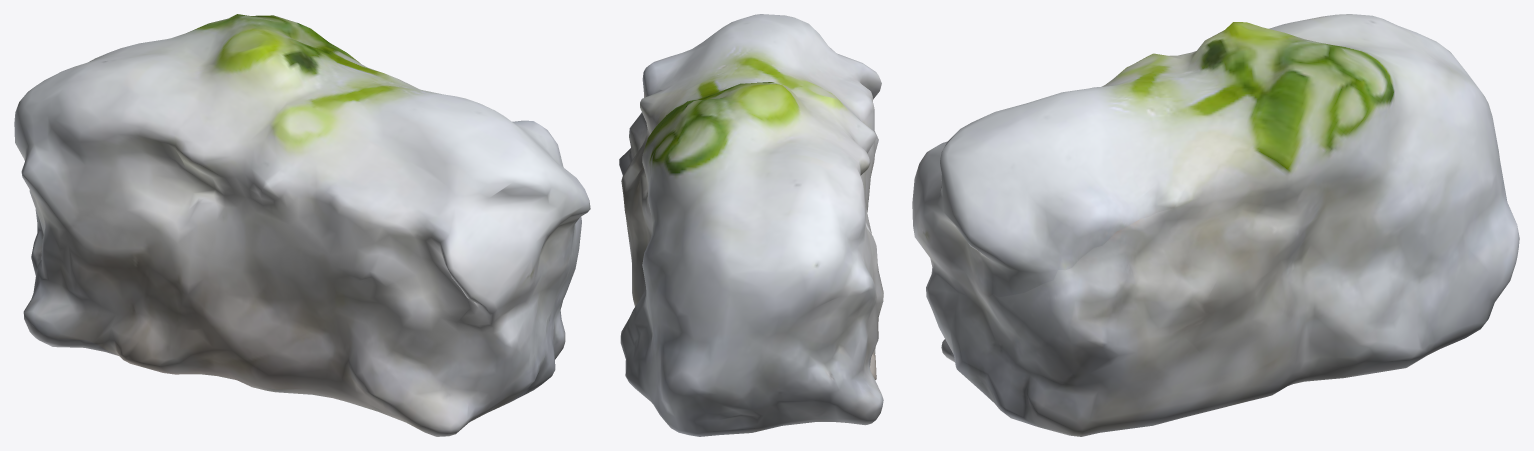
The model's file is engawa.fbx.
3 views of the same model, side by side, from view 1: azimuth 30°, elevation 25°; view 2: azimuth 150°, elevation 25°; view 3: azimuth 270°, elevation 25° (orthographic). The views are drawn at different scales.
Parts seen in each view (by area): view 1: engawa; view 2: engawa; view 3: engawa.
Boxes of the visible parts, x1,y1,x2,y2 form: engawa: (14, 14, 590, 436); engawa: (619, 14, 883, 436); engawa: (912, 14, 1519, 436).
Size of the model in its own units: 4.36 by 3.07 by 5.33.
1 material, 1 textured.
